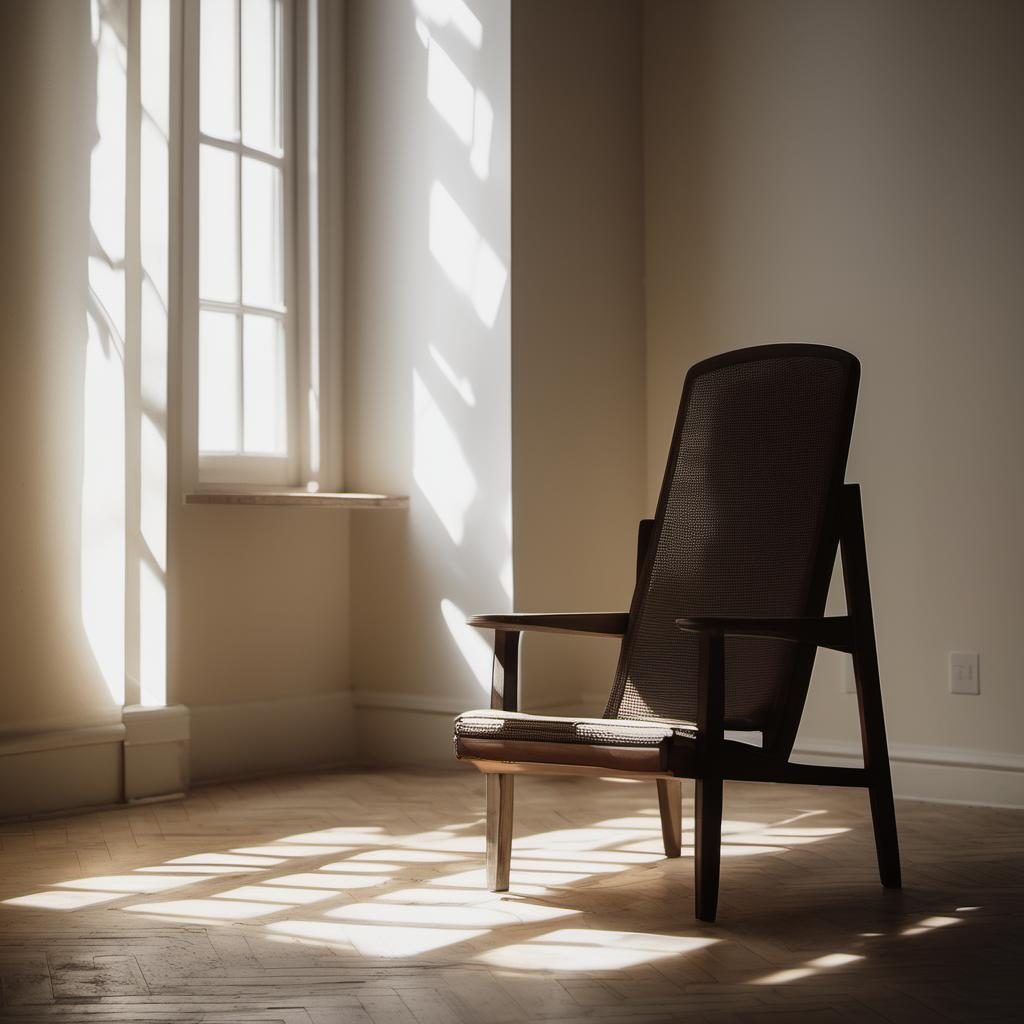chair_new: (450, 339, 909, 928)
